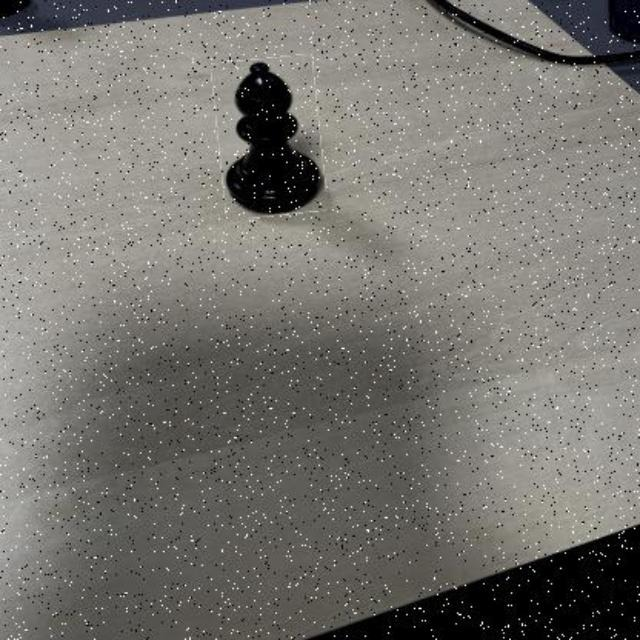black-bishop: (214, 56, 323, 217)
